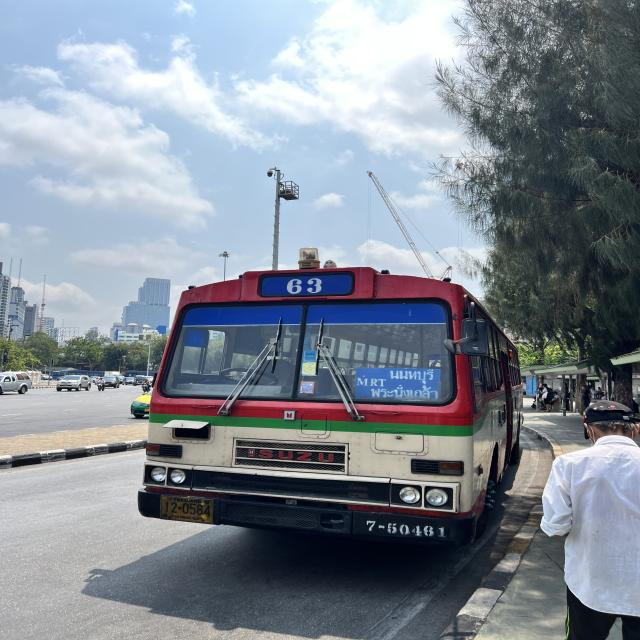BMTA-bus: (131, 250, 524, 552)
Bus-Line-Number: (258, 272, 354, 300)
Destination-Sign-Normal: (355, 366, 440, 400)
